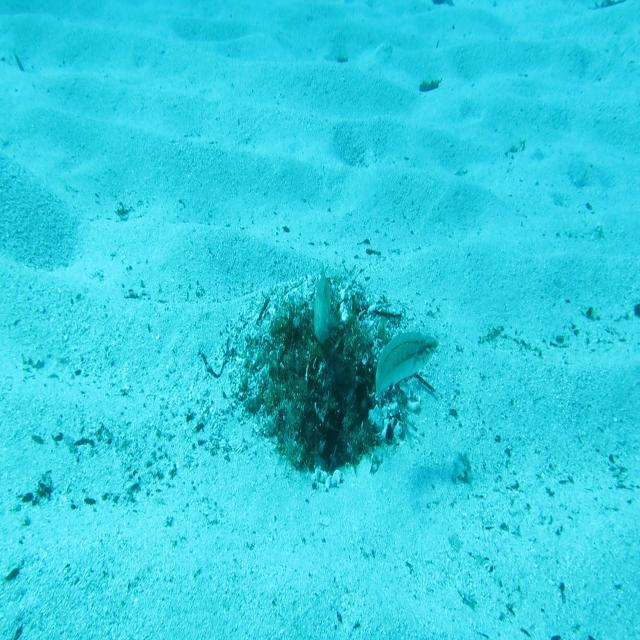NIP_CORE: (308, 255, 341, 353)
core_nest: (298, 322, 340, 374)
female: (372, 328, 442, 432)
nest: (219, 252, 434, 506)
vegetation: (419, 77, 442, 94)
